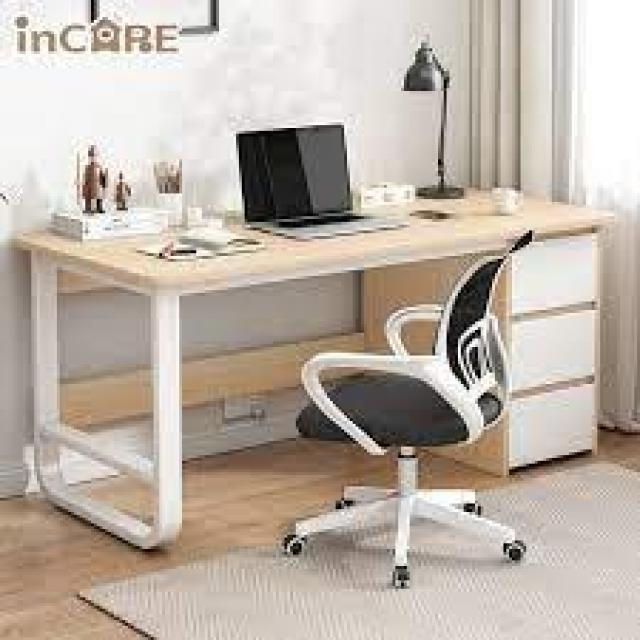desk: (7, 116, 616, 572)
